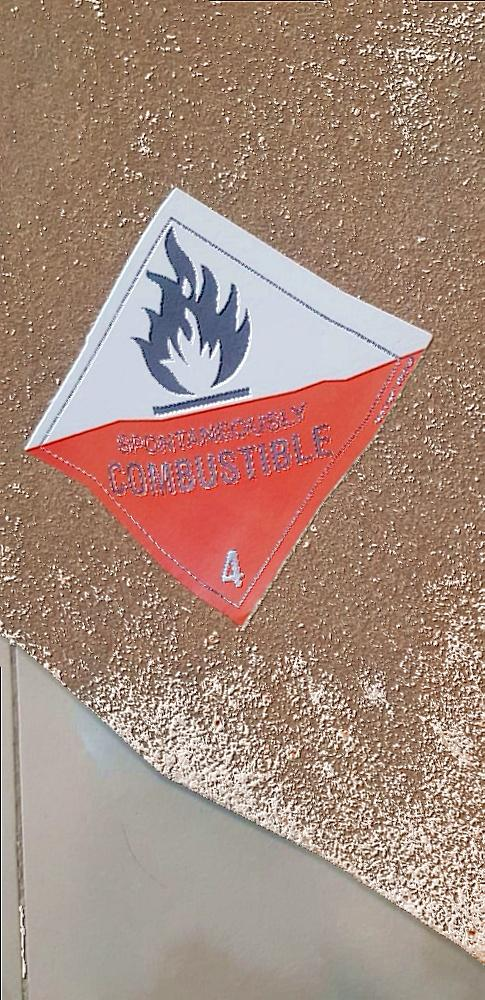spontaneously-combustible: (25, 184, 435, 637)
